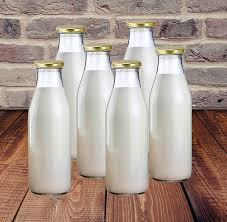milk: (152, 44, 212, 181), (102, 57, 151, 191), (25, 50, 72, 189), (78, 40, 110, 178), (51, 21, 87, 114)
